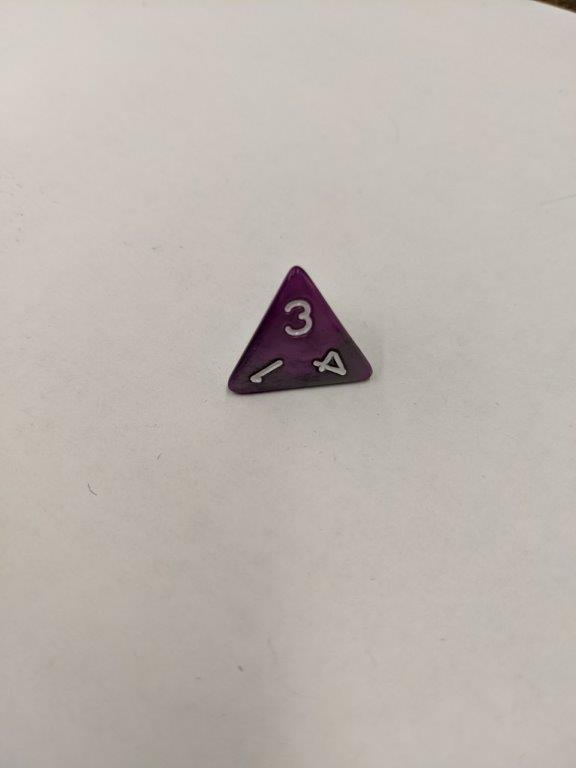d4-3: (224, 261, 376, 395)
